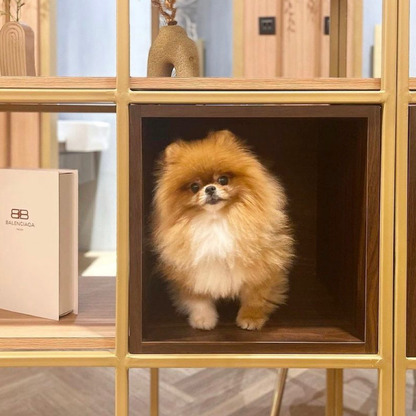Pomeranian: (133, 116, 313, 345)
